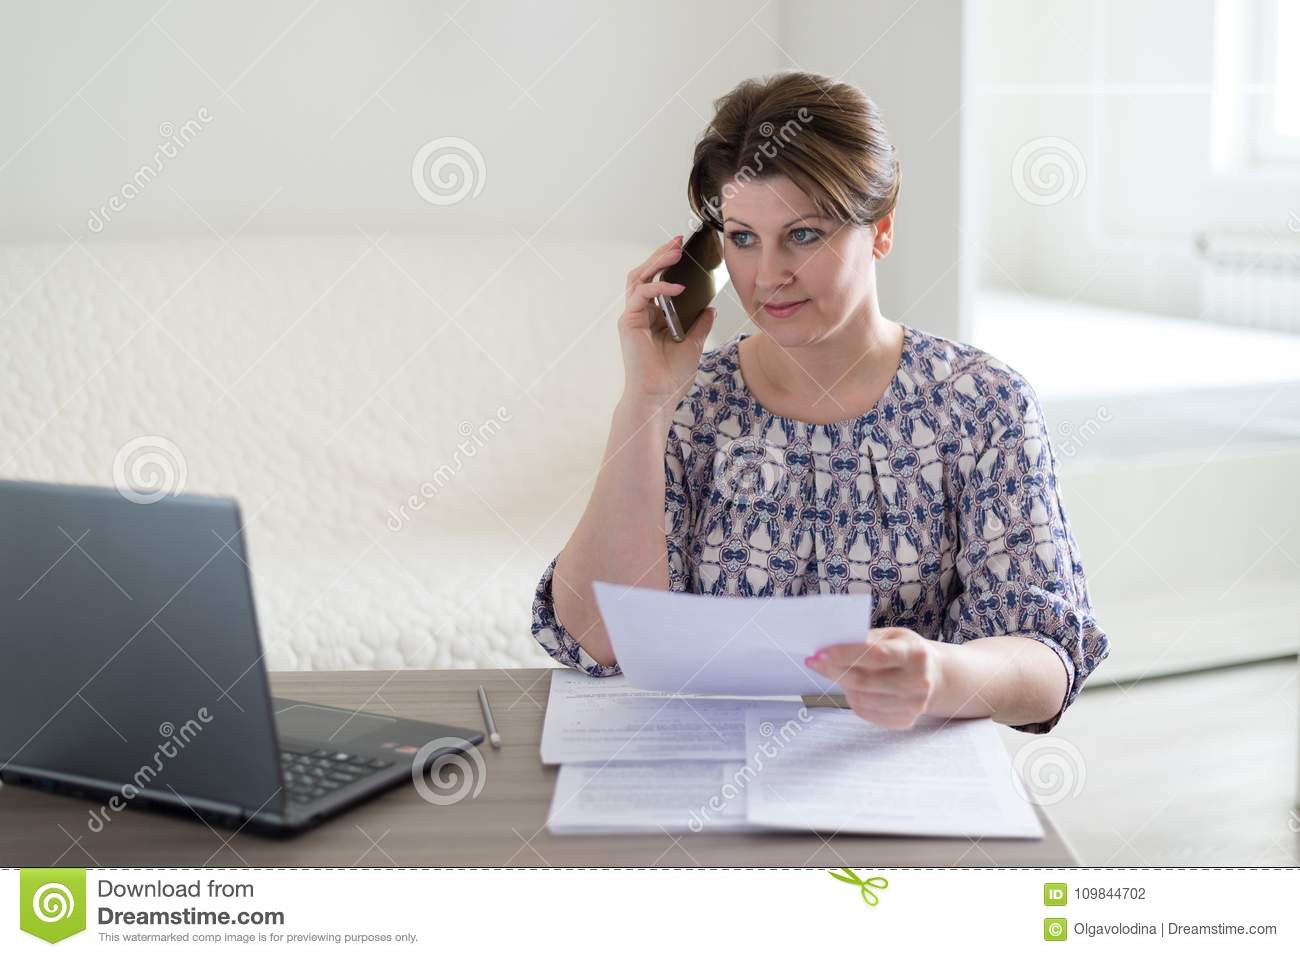phone: (658, 221, 734, 341)
talk: (618, 194, 839, 403)
